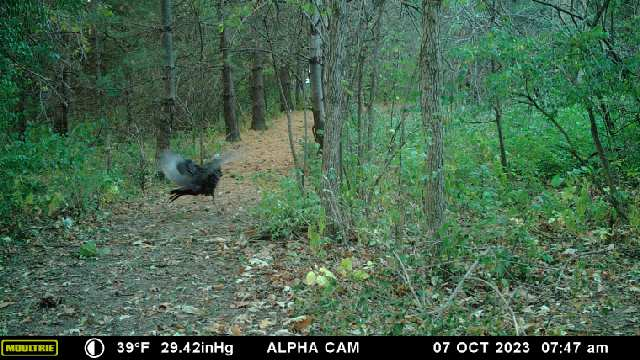Turkey: (158, 147, 244, 206)
